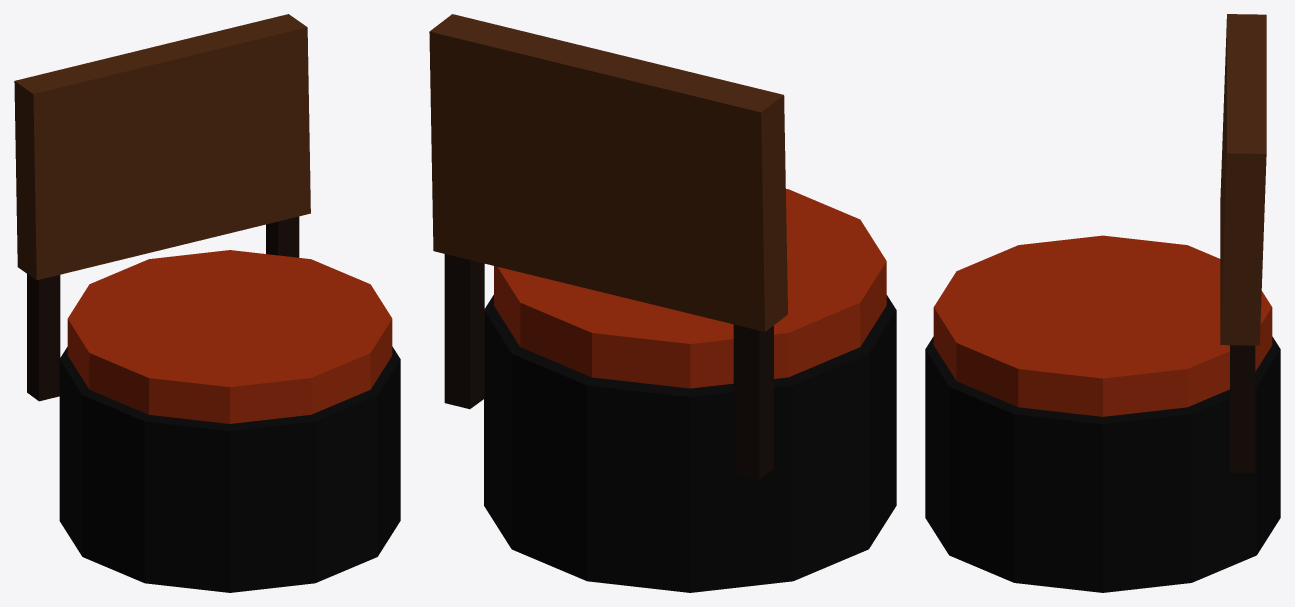
Rendered from SM_Hide_TireChair.glb.
3 views of the same model, side by side, from view 1: azimuth 30°, elevation 25°; view 2: azimuth 150°, elevation 25°; view 3: azimuth 270°, elevation 25° (orthographic). The views are drawn at different scales.
Parts seen in each view (by area): view 1: SM_Hide_TireChair-col; view 2: SM_Hide_TireChair-col; view 3: SM_Hide_TireChair-col.
Part boxes in pixels (x1,y1,x2,y2): SM_Hide_TireChair-col: (14, 14, 400, 592); SM_Hide_TireChair-col: (429, 14, 896, 592); SM_Hide_TireChair-col: (925, 14, 1280, 592).
Bounding box in the file's own units: 0.84 × 1.13 × 0.84.
